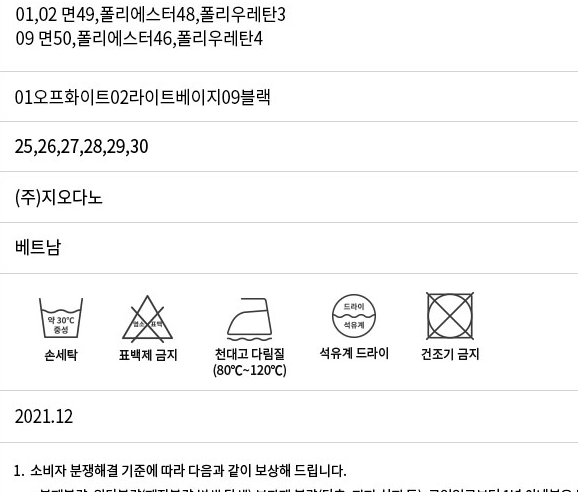KR_dry_clean_petroleum: (326, 290, 380, 340)
KR_hand_wash_30_neutral: (36, 292, 85, 343)
KR_no_chlorine_bleach: (114, 288, 178, 344)
KR_no_tumble_dry: (420, 288, 477, 344)
